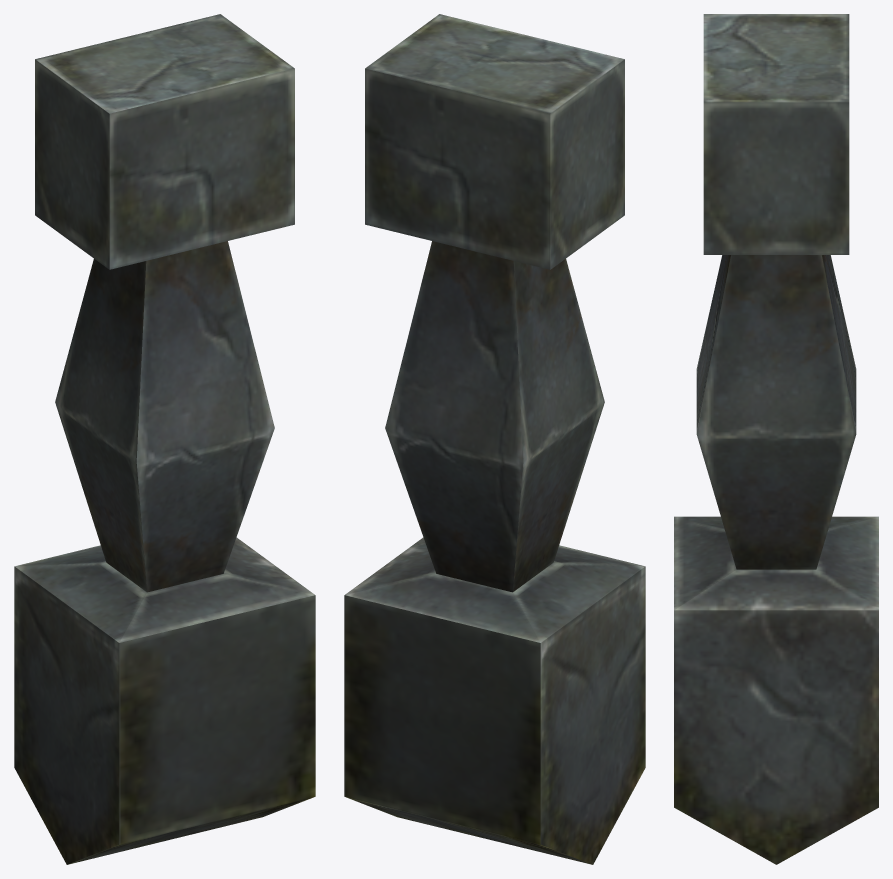
The model's file is F_fushou001.fbx.
3 views of the same model, side by side, from view 1: azimuth 30°, elevation 25°; view 2: azimuth 150°, elevation 25°; view 3: azimuth 270°, elevation 25° (orthographic). The views are drawn at different scales.
Parts seen in each view (by area): view 1: F_fushou001; view 2: F_fushou001; view 3: F_fushou001.
Boxes of the visible parts, <box> form: F_fushou001: <box>14,14,315,864</box>; F_fushou001: <box>344,14,645,864</box>; F_fushou001: <box>674,14,878,864</box>.
Size of the model in its own units: 37.26 by 141 by 34.46.
